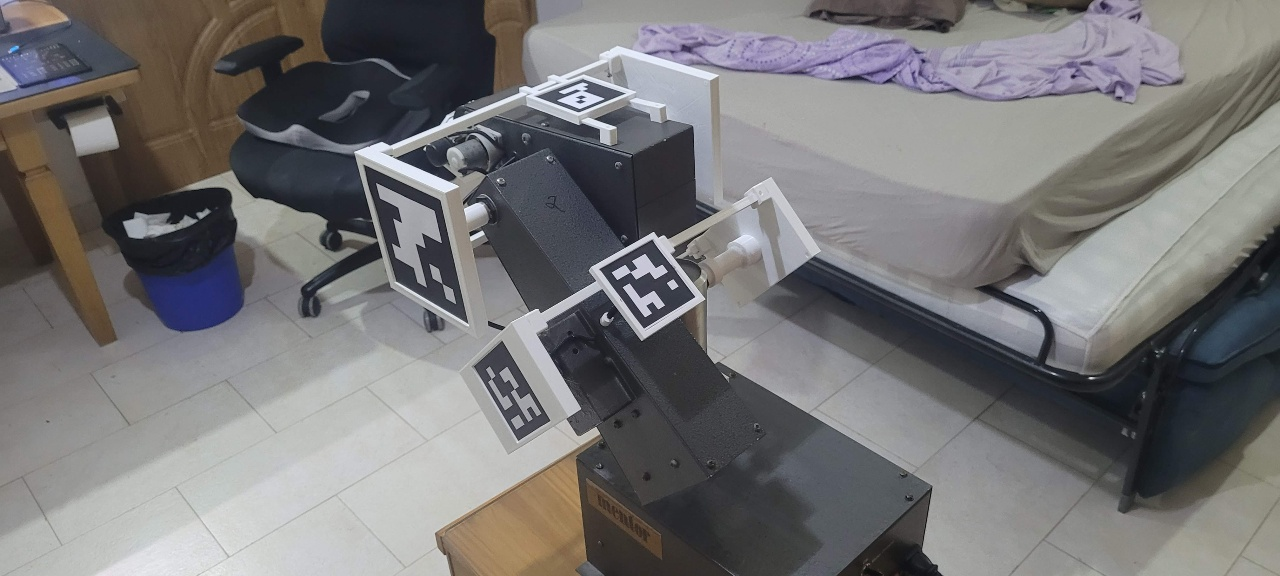Robot: (352, 45, 823, 508)
